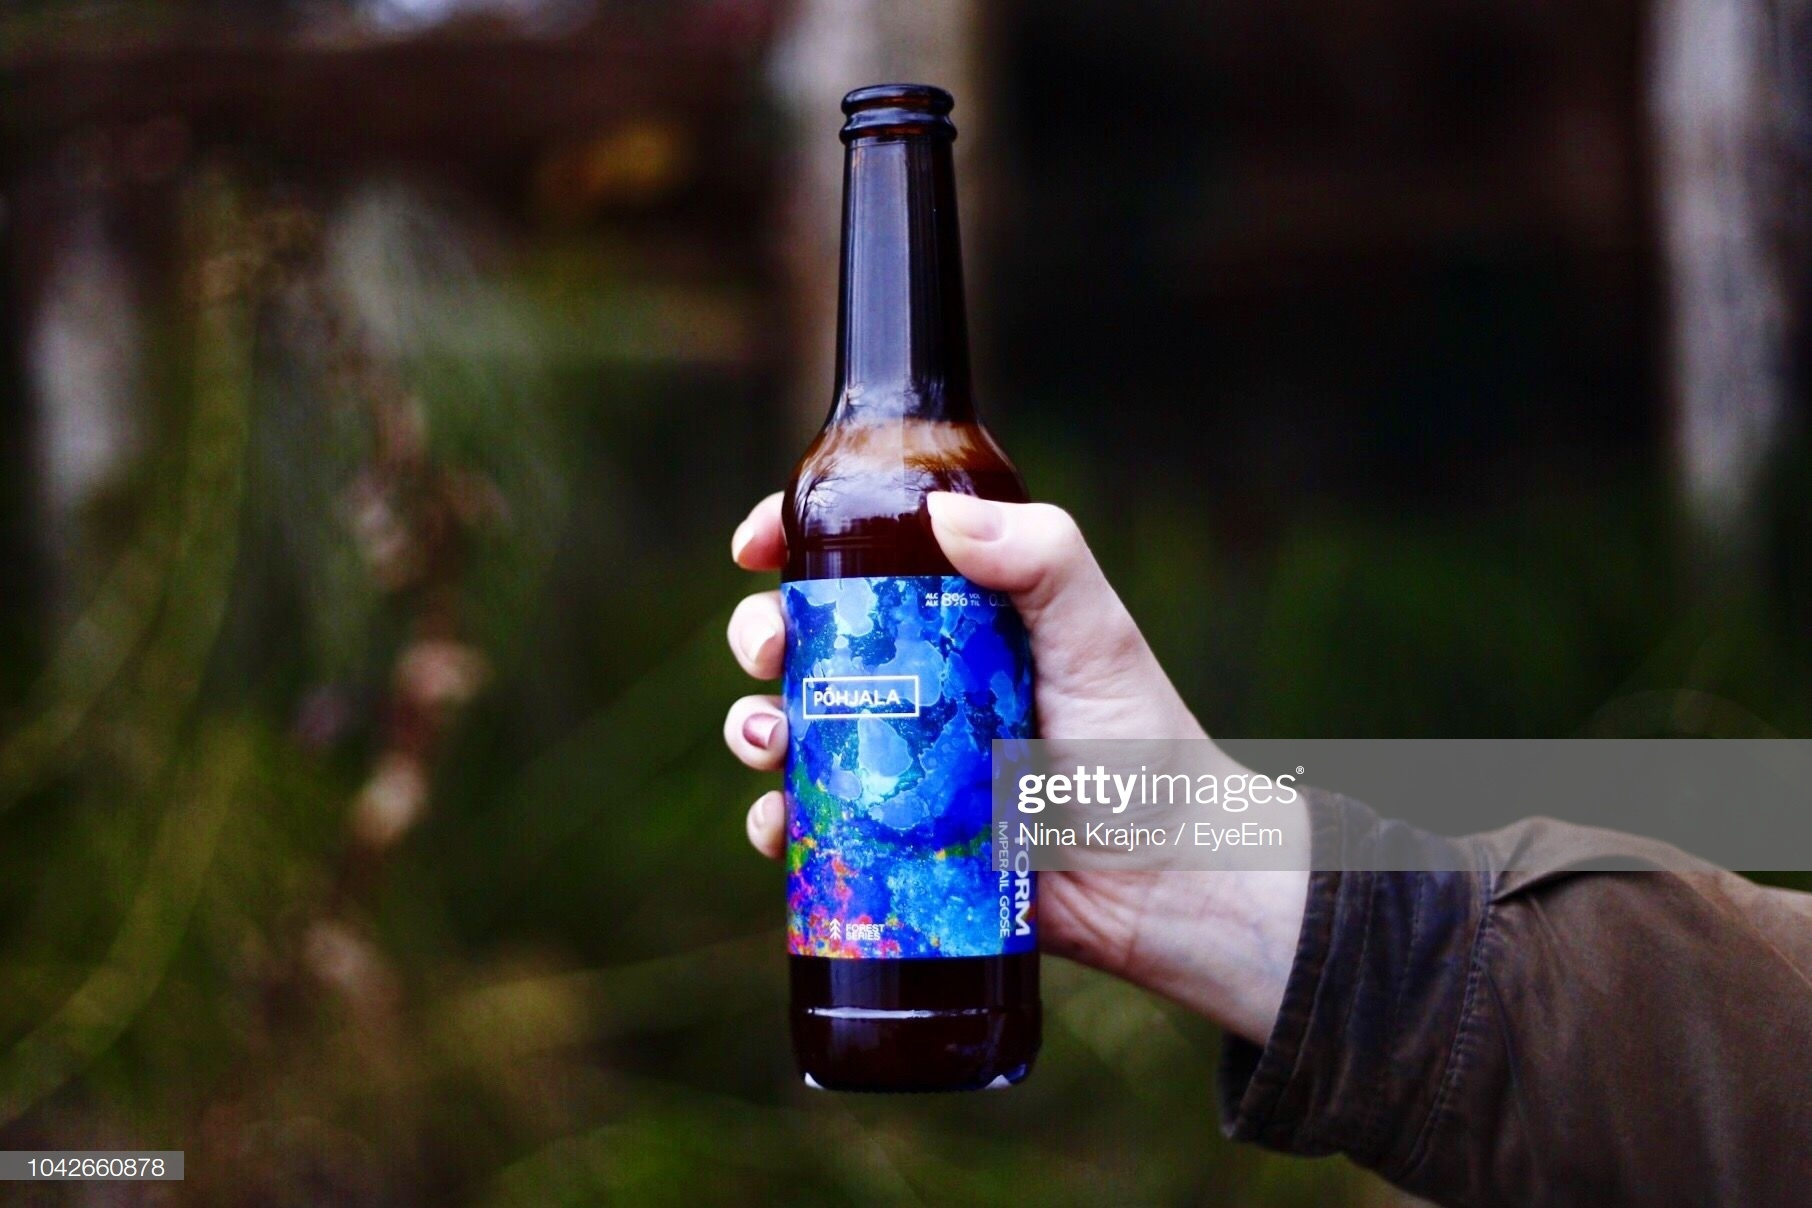beerBottle: (787, 82, 1042, 1091)
